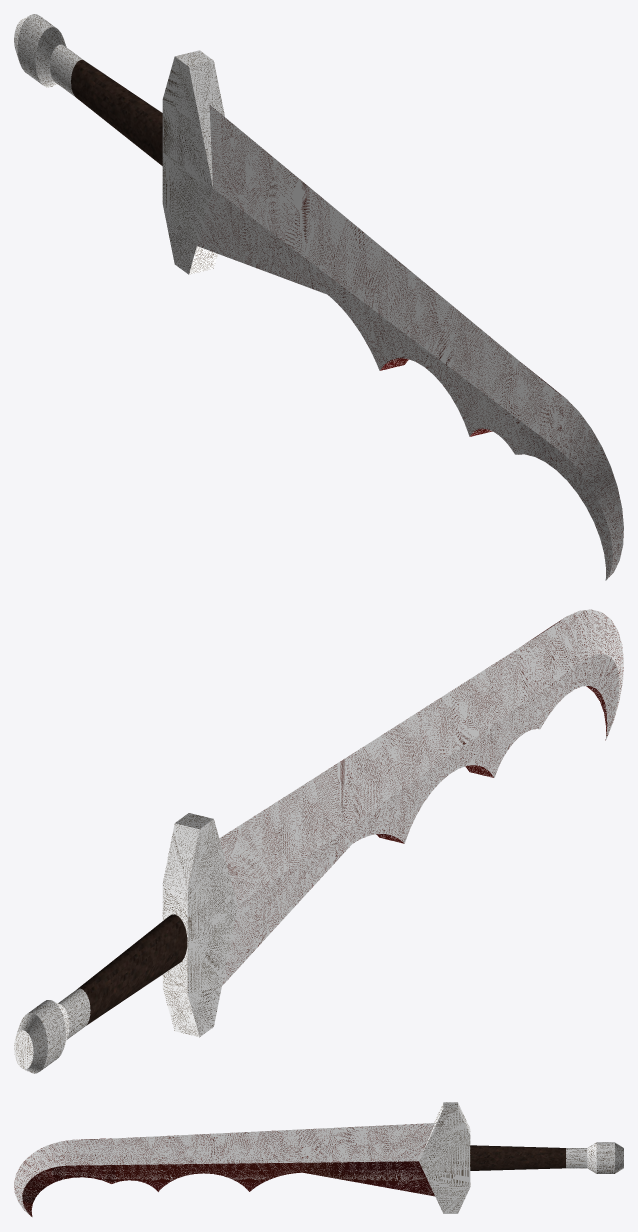
Rendered from model_align.obj.
3 renders of one model, top to bottom at view 1: azimuth 30°, elevation 25°; view 2: azimuth 150°, elevation 25°; view 3: azimuth 270°, elevation 25°, orthographic. The views are drawn at different scales.
Visible parts, largest first — view 1: mesh1_mesh1-geometry; view 2: mesh1_mesh1-geometry; view 3: mesh1_mesh1-geometry.
Part boxes in pixels (x1=…): mesh1_mesh1-geometry: x1=14, y1=14, x2=623, y2=580; mesh1_mesh1-geometry: x1=14, y1=609, x2=623, y2=1073; mesh1_mesh1-geometry: x1=14, y1=1102, x2=623, y2=1216.
Bounding box in the file's own units: 0.00634 × 0.0441 × 0.2168.
6 materials, 5 textured.
